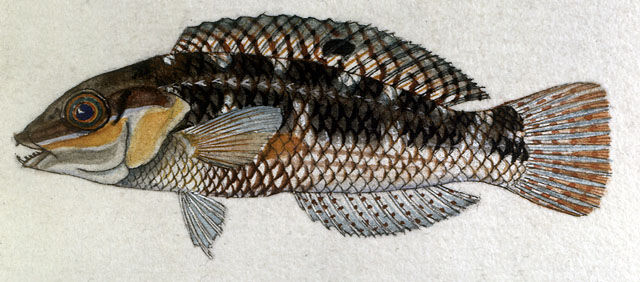fish: (14, 12, 611, 260)
